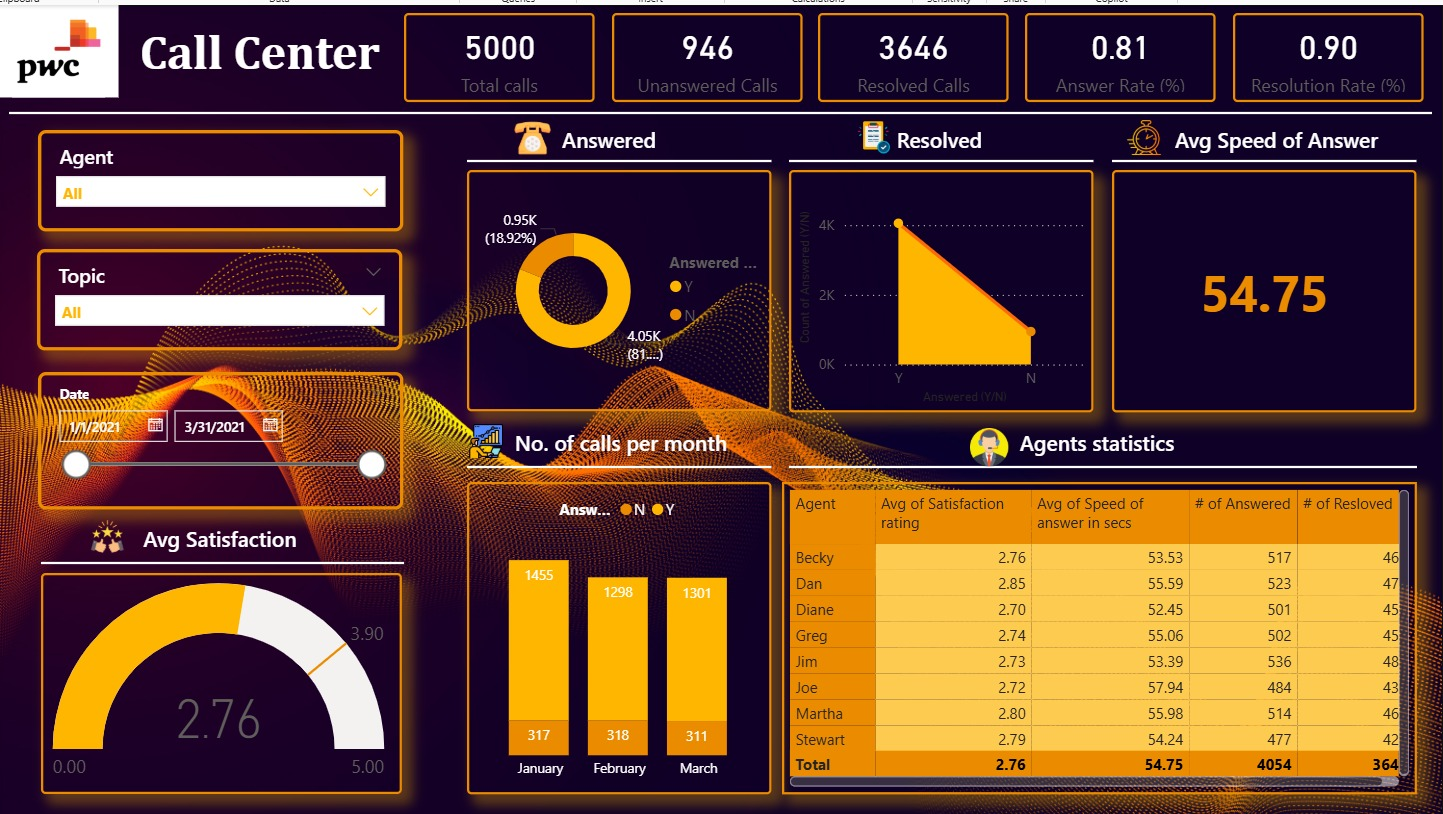

This screenshot's page, from the dashboard's own definition file:
{"tool":"powerbi","page":{"name":"Page 1","canvas":[1280,720],"ordinal":0},"visuals":[{"type":"shape","box":[399,98.4,870.7,598.5],"z":0},{"type":"shape","box":[8.6,104.4,379.5,598.6],"z":1000},{"type":"shape","box":[8.9,89.6,1261.8,12.4],"z":2000},{"type":"shape","box":[700.5,132.1,270.4,12.4],"z":3000},{"type":"textbox","box":[0,10.6,453.1,71.8],"z":4000},{"type":"shape","box":[415,130.3,270.4,16],"z":5000},{"type":"shape","box":[986.9,132.1,270.4,12.4],"z":6000},{"type":"textbox","box":[726.2,102,215.5,44.3],"z":7000},{"type":"textbox","box":[437.1,102,212.8,36.4],"z":8000},{"type":"textbox","box":[994.9,102,275.8,36.4],"z":9000},{"type":"donutChart","title":"Answered (Y/N)","fields":{"Category":["Call Center.Answered (Y/N)"],"Y":["Call Center.Answered (Y/N)"]},"box":[415,146.3,270.4,213.7],"z":10000},{"type":"barChart","title":"Answered (Y/N)","fields":{"Category":["Call Center.Answered (Y/N)"],"Y":["Call Center.Answered (Y/N)"]},"box":[700.5,146.3,270.4,215.5],"z":11000},{"type":"card","fields":{"Values":["Call Center.Speed of answer in seconds"]},"box":[986.9,146.3,270.4,215.5],"z":12000},{"type":"shape","box":[415,402.6,270.4,14.2],"z":13000},{"type":"shape","box":[700.5,403.4,556.8,12.4],"z":14000},{"type":"columnChart","fields":{"Category":["Call Center.Date.Variation.Date Hierarchy.Month"],"Series":["Call Center.Answered (Y/N)"],"Y":["Call Center.Answered (Y/N)"]},"box":[415,423,270.4,276.7],"z":15000},{"type":"textbox","box":[408.8,370.6,285.5,41.7],"z":16000},{"type":"textbox","box":[666.8,370.6,613.6,41.7],"z":17000},{"type":"pivotTable","fields":{"Rows":["Call Center.Agent"],"Values":["Call Center.Satisfaction rating","Call Center.Speed of answer in seconds","Call Center.# of Answered","Call Center.# of Resloved"]},"box":[694.3,423,563.1,276.7],"z":18000},{"type":"image","box":[453.1,102,39.9,31.9],"z":19000},{"type":"image","box":[994.9,101.1,40.8,32.8],"z":20000},{"type":"image","box":[752.8,98.4,46.1,38.1],"z":21000},{"type":"image","box":[415,370.6,34.6,31.9],"z":22000},{"type":"image","box":[861,375.1,33.7,33.7],"z":23000},{"type":"slicer","fields":{"Values":["Call Center.Agent"]},"box":[34.6,110.8,323.6,89.6],"z":24000},{"type":"slicer","fields":{"Values":["Call Center.Topic"]},"box":[33.7,216.4,323.6,89.6],"z":25000},{"type":"slicer","fields":{"Values":["Call Center.Date"]},"box":[34.6,325.4,323.6,122.4],"z":26000},{"type":"textbox","box":[73.6,455.8,244.7,45.2],"z":27000},{"type":"shape","box":[37.2,485.9,321.9,17.7],"z":28000},{"type":"image","box":[73.6,456.7,45.2,29.3],"z":29000},{"type":"gauge","title":"Target Satisfaction","fields":{"Y":["Call Center.Satisfaction rating"],"TargetValue":["Call Center.Target Satisfaction"],"MaxValue":["Call Center.Satisfaction rating"]},"box":[37.2,503.6,320.1,196],"z":30000},{"type":"image","box":[0,0,105.5,82.5],"z":31000},{"type":"card","fields":{"Values":["Call Center.Total calls"]},"box":[359.1,7.1,169.4,78.9],"z":32000},{"type":"card","fields":{"Values":["Call Center.Unanswered Calls"]},"box":[543.5,7.1,169.4,78.9],"z":33000},{"type":"card","fields":{"Values":["Call Center.Answer Rate (%)"]},"box":[909.8,7.1,169.4,78.9],"z":34000},{"type":"card","fields":{"Values":["Call Center.Resolution Rate (%)"]},"box":[1094.2,7.1,169.4,78.9],"z":35000},{"type":"card","fields":{"Values":["Call Center.Resolved Calls"]},"box":[726.2,7.1,169.4,78.9],"z":36000}]}

Visuals, with their boxes in screenshot pixels (x1, y1, x2, y2):
shape: bbox(444, 109, 1412, 775)
shape: bbox(10, 116, 431, 782)
shape: bbox(10, 100, 1413, 113)
shape: bbox(779, 147, 1079, 161)
textbox: bbox(0, 12, 504, 92)
shape: bbox(461, 145, 762, 163)
shape: bbox(1097, 147, 1398, 161)
textbox: bbox(807, 113, 1047, 163)
textbox: bbox(486, 113, 723, 154)
textbox: bbox(1106, 113, 1413, 154)
"Answered (Y/N)" donutChart: bbox(461, 163, 762, 400)
"Answered (Y/N)" barChart: bbox(779, 163, 1079, 402)
card - Call Center.Speed of answer in seconds: bbox(1097, 163, 1398, 402)
shape: bbox(461, 448, 762, 463)
shape: bbox(779, 448, 1398, 462)
columnChart - Call Center.Date.Variation.Date Hierarchy.Month x Call Center.Answered (Y/N): bbox(461, 470, 762, 778)
textbox: bbox(454, 412, 772, 458)
textbox: bbox(741, 412, 1423, 458)
pivotTable - Call Center.Agent x Call Center.Satisfaction rating: bbox(772, 470, 1398, 778)
image: bbox(504, 113, 548, 149)
image: bbox(1106, 112, 1151, 149)
image: bbox(837, 109, 888, 152)
image: bbox(461, 412, 500, 447)
image: bbox(957, 417, 995, 454)
slicer - Call Center.Agent: bbox(38, 123, 398, 223)
slicer - Call Center.Topic: bbox(37, 241, 397, 340)
slicer - Call Center.Date: bbox(38, 362, 398, 498)
textbox: bbox(82, 507, 354, 557)
shape: bbox(41, 540, 399, 560)
image: bbox(82, 508, 132, 540)
"Target Satisfaction" gauge: bbox(41, 560, 397, 778)
image: bbox(0, 0, 117, 92)
card - Call Center.Total calls: bbox(399, 8, 588, 96)
card - Call Center.Unanswered Calls: bbox(604, 8, 793, 96)
card - Call Center.Answer Rate (%): bbox(1011, 8, 1200, 96)
card - Call Center.Resolution Rate (%): bbox(1216, 8, 1405, 96)
card - Call Center.Resolved Calls: bbox(807, 8, 996, 96)
